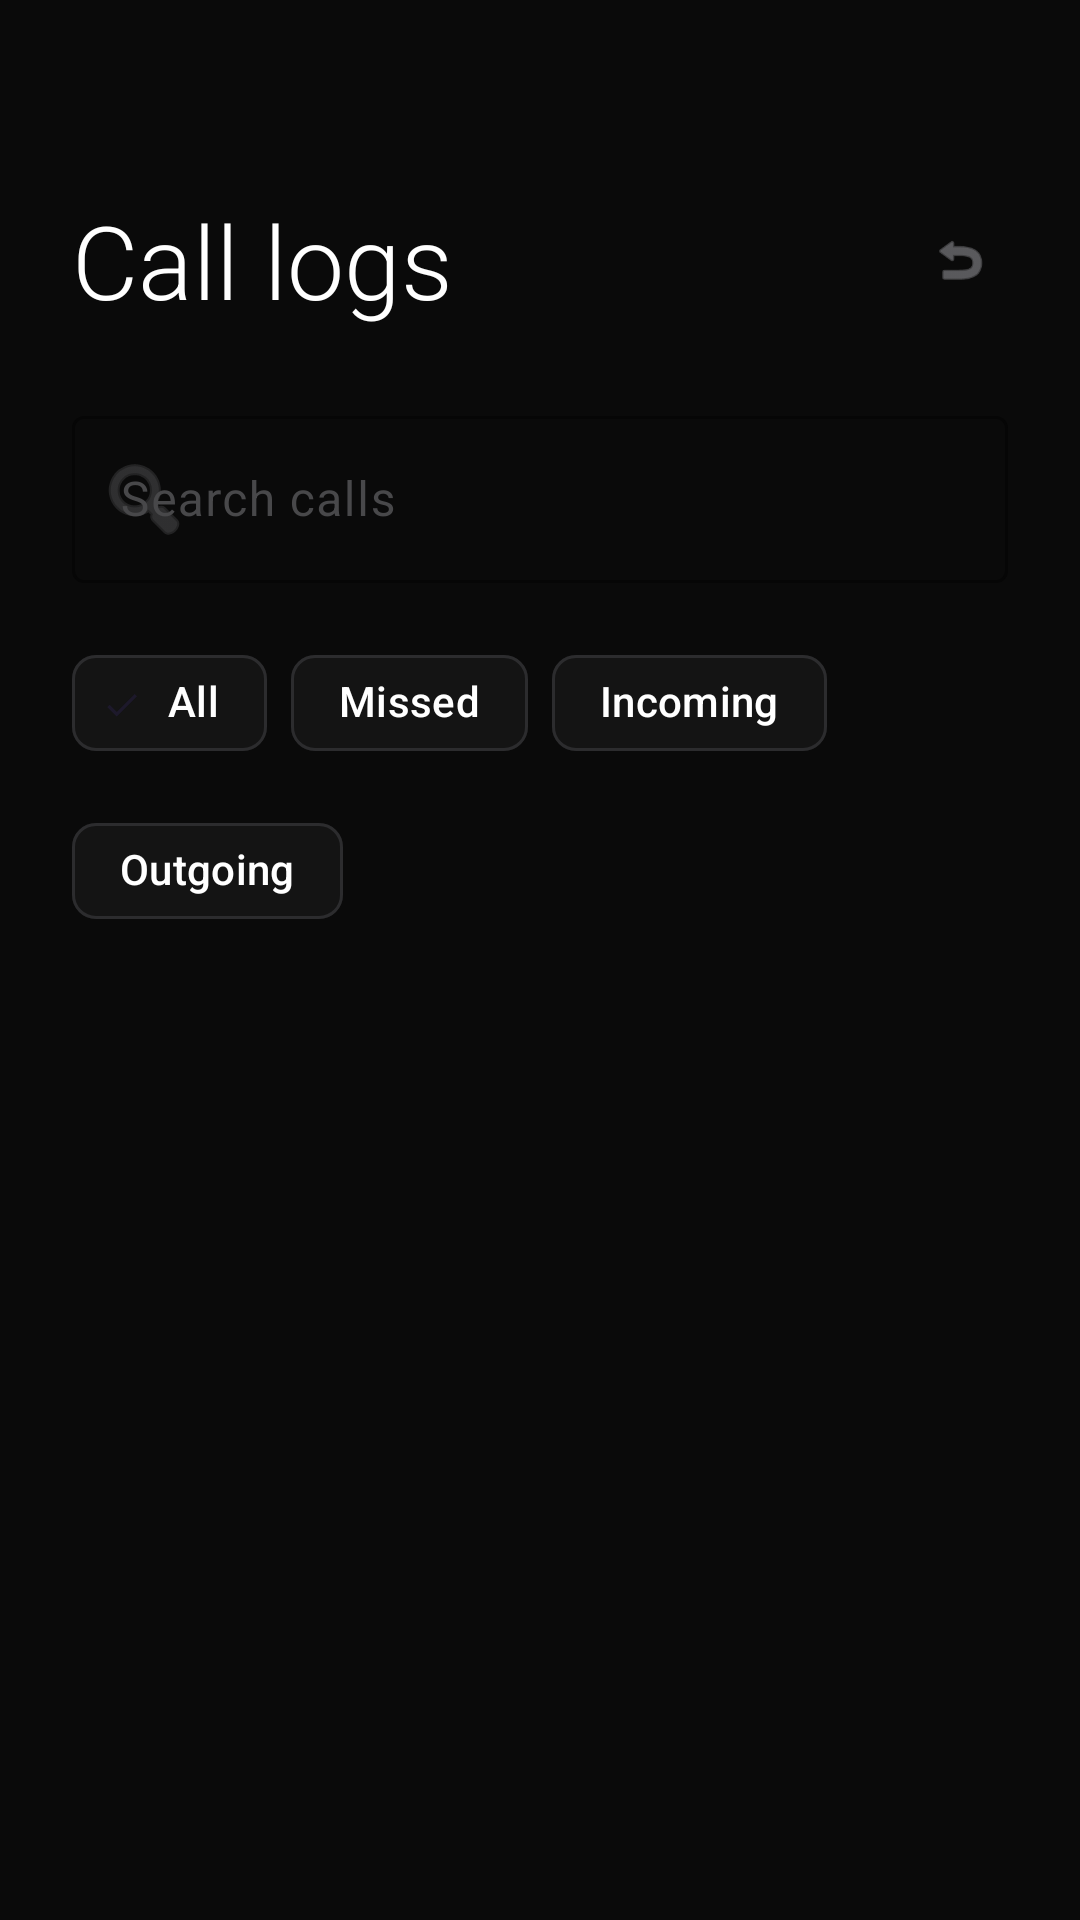

Locate icon controls on the screen. Image size 1080w x 1920h, boxes as [left=x1, top=y1, right=x2, bottom=y2].
revert: [left=939, top=241, right=982, bottom=280]
